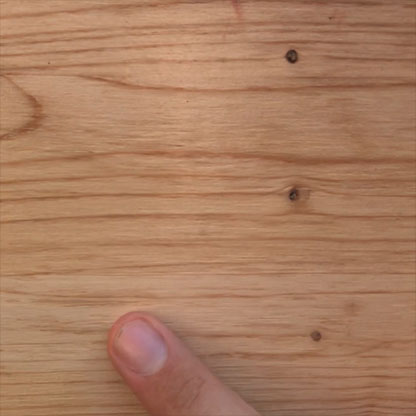fingertip: (99, 308, 184, 391)
